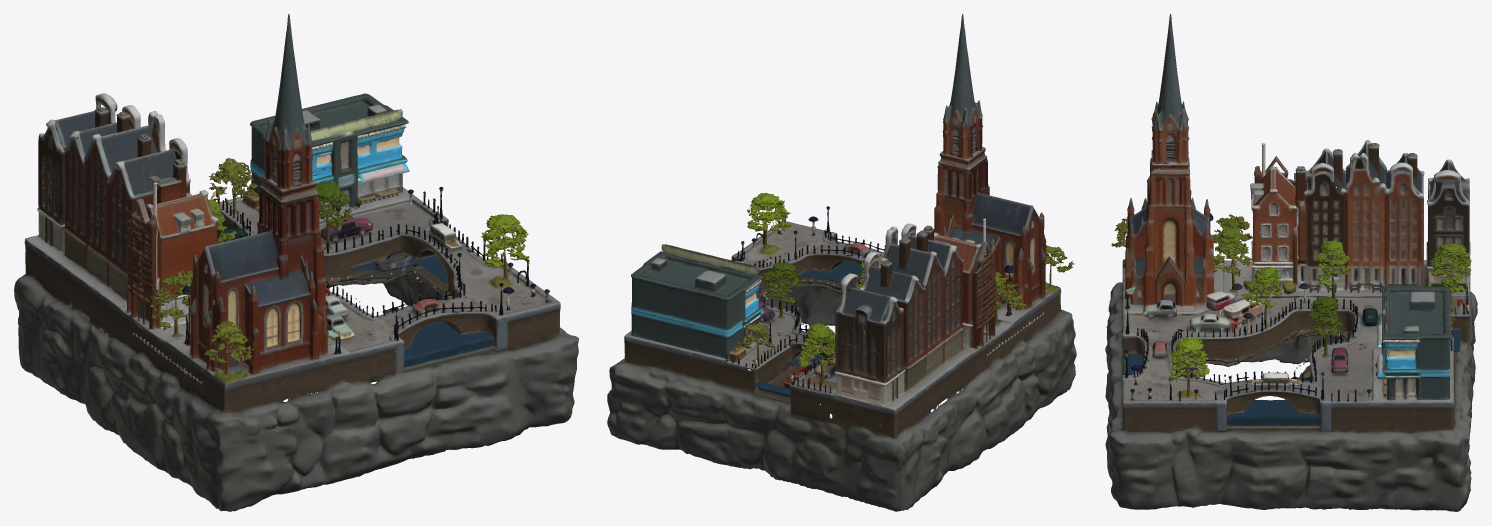
The model's file is amsterdam_canal.glb.
3 renders of one model, left to right at view 1: azimuth 30°, elevation 25°; view 2: azimuth 150°, elevation 25°; view 3: azimuth 270°, elevation 25°, orthographic. The views are drawn at different scales.
Parts seen in each view (by area): view 1: world; view 2: world; view 3: world.
Part boxes in pixels (x1=…): world: x1=14, y1=14, x2=578, y2=511; world: x1=607, y1=14, x2=1076, y2=511; world: x1=1105, y1=14, x2=1477, y2=511.
Bounding box in the file's own units: 0.8664 × 0.9966 × 0.8593.
1 material, 1 textured.
